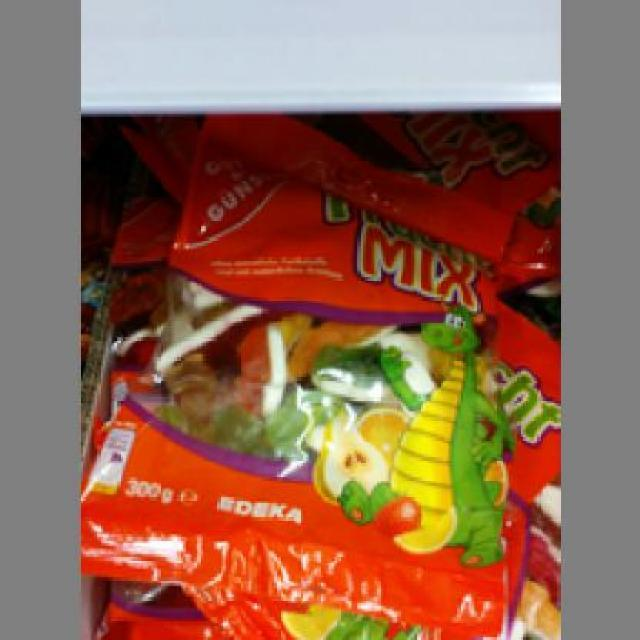Candy: (100, 116, 497, 610)
